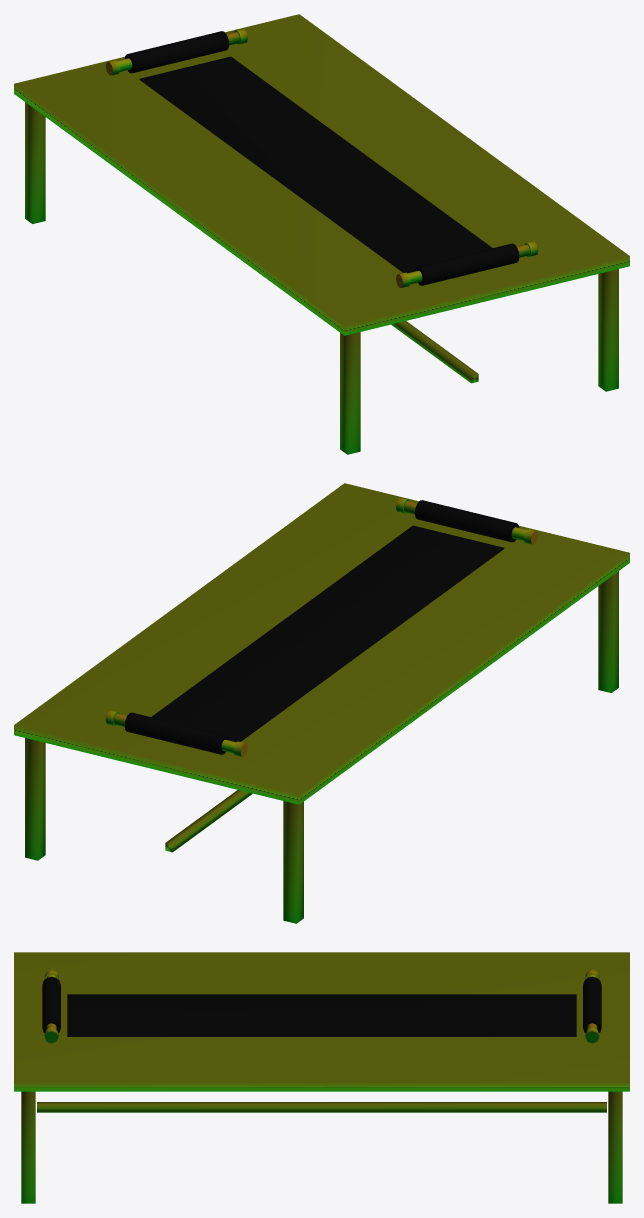
Rendered from roll_table.glb.
3 views of the same model, one above another, from view 1: azimuth 30°, elevation 25°; view 2: azimuth 150°, elevation 25°; view 3: azimuth 270°, elevation 25° (orthographic). The views are drawn at different scales.
Visible parts, largest first — view 1: roll_table; view 2: roll_table; view 3: roll_table.
Boxes of the visible parts, bbox=[...] form: roll_table: bbox=[14, 14, 629, 454]; roll_table: bbox=[14, 483, 629, 923]; roll_table: bbox=[14, 952, 629, 1203].
Size of what is drawn, in the model's own units: 1.99 by 1.03 by 3.99.
